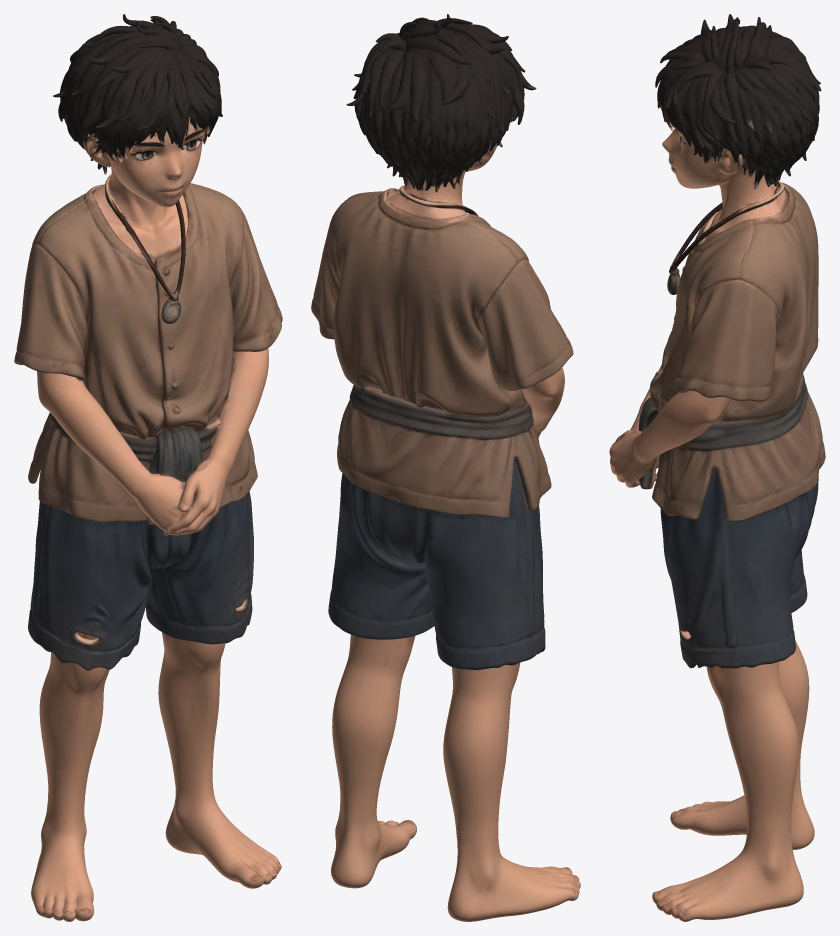
The model's file is tian.glb.
3 views of the same model, side by side, from view 1: azimuth 30°, elevation 25°; view 2: azimuth 150°, elevation 25°; view 3: azimuth 270°, elevation 25° (orthographic). The views are drawn at different scales.
Size of the model in its own units: 0.5837 by 1.9 by 0.4373.
1 material, 1 textured.
